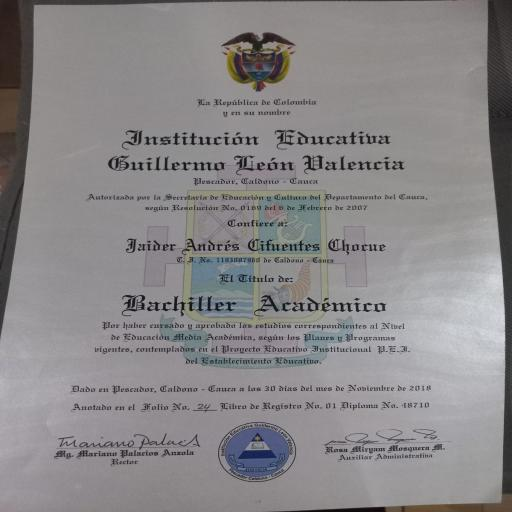bachillerato: (105, 288, 397, 319)
diploma: (0, 0, 503, 511), (1, 0, 503, 512)
escudo: (206, 26, 313, 94)
firma: (36, 421, 209, 471), (319, 422, 454, 465)
institucion: (92, 125, 418, 179)
nombre: (115, 231, 398, 260)
